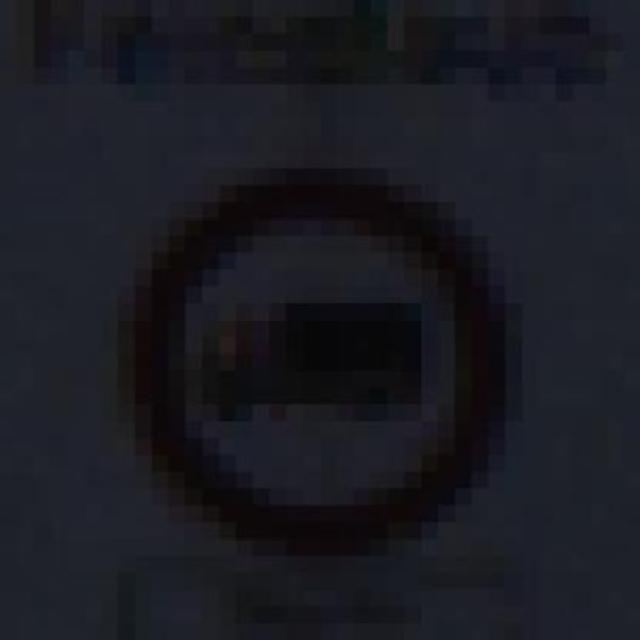Truck traffic is prohibited: (81, 165, 536, 569)
